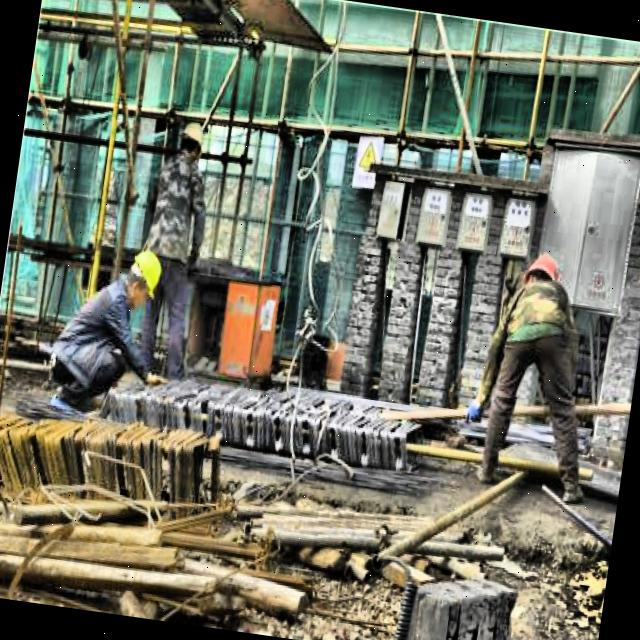helmet: (122, 244, 168, 308), (521, 253, 569, 310), (174, 111, 212, 165)
